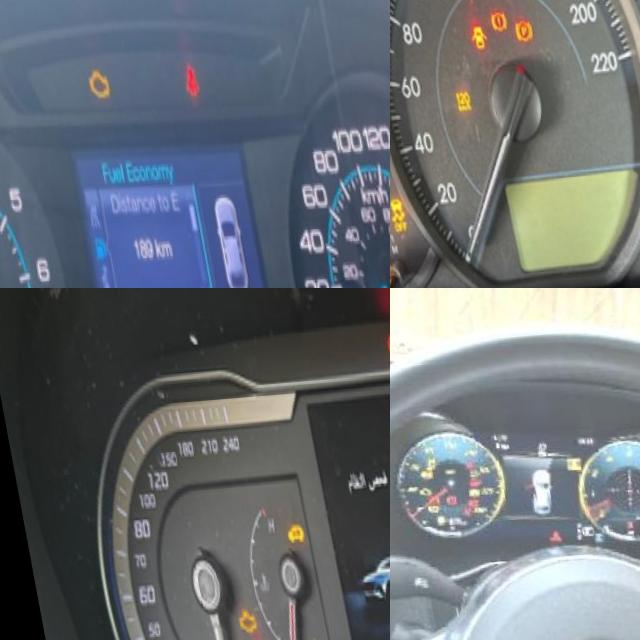Engine cooling system: (612, 527, 623, 539)
Low fuel level: (423, 520, 432, 530)
Seat Belt: (175, 66, 199, 109)
